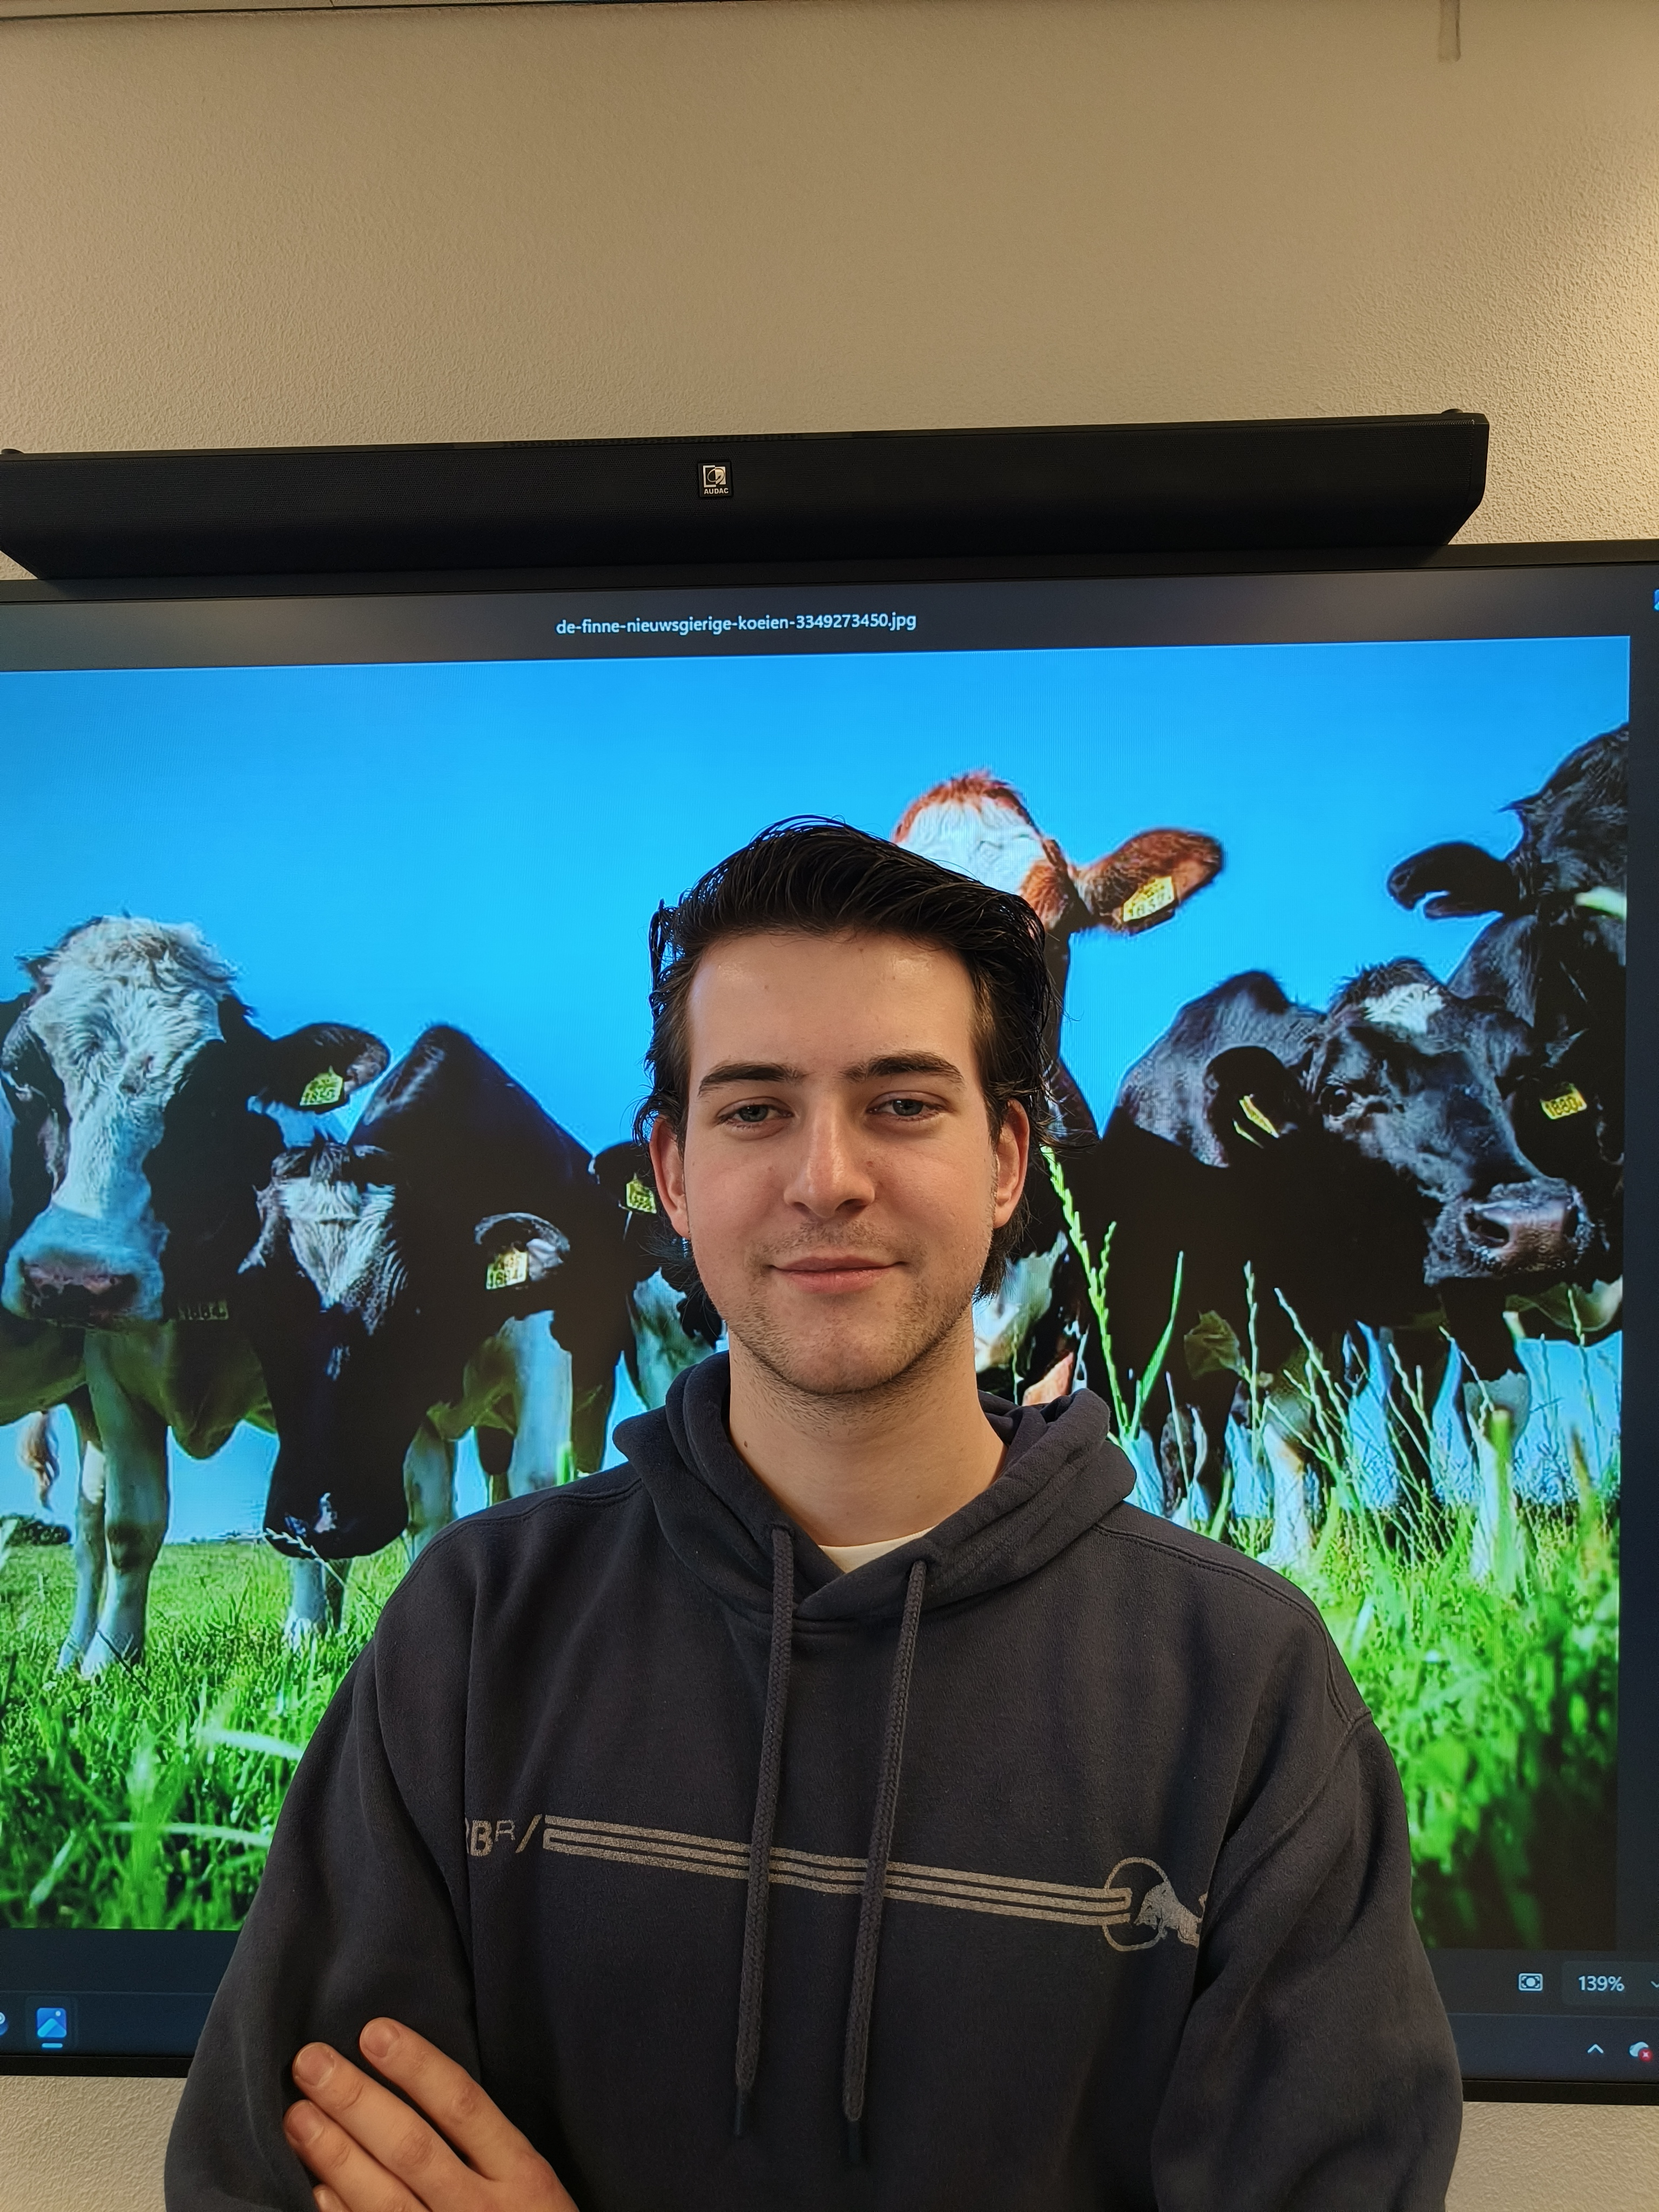face: (630, 822, 1049, 1411)
